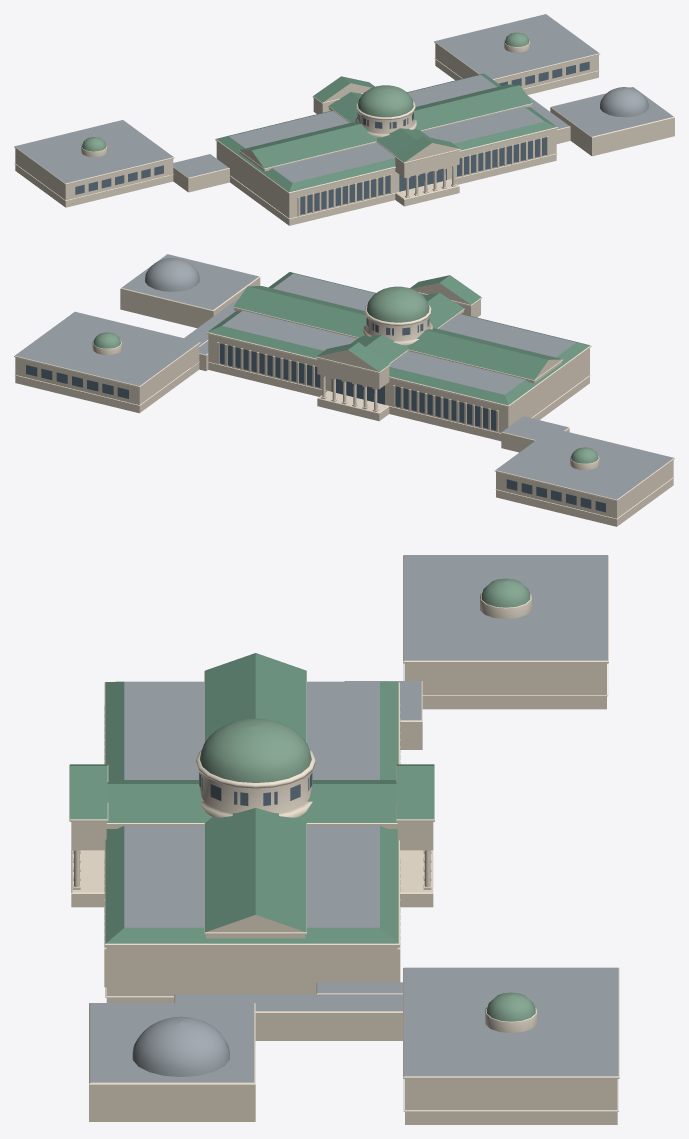
The model's file is detail.glb.
The picture shows the model from 3 angles, top to bottom: view 1: azimuth 30°, elevation 25°; view 2: azimuth 150°, elevation 25°; view 3: azimuth 270°, elevation 25°; orthographic projection. The views are drawn at different scales.
Visible parts, largest first — view 1: museum-of-science-and-industry; view 2: museum-of-science-and-industry; view 3: museum-of-science-and-industry.
Boxes of the visible parts, bbox=[...] form: museum-of-science-and-industry: bbox=[14, 14, 674, 225]; museum-of-science-and-industry: bbox=[14, 254, 674, 526]; museum-of-science-and-industry: bbox=[69, 555, 619, 1124].
Size of the model in its own units: 348 by 48 by 155.
